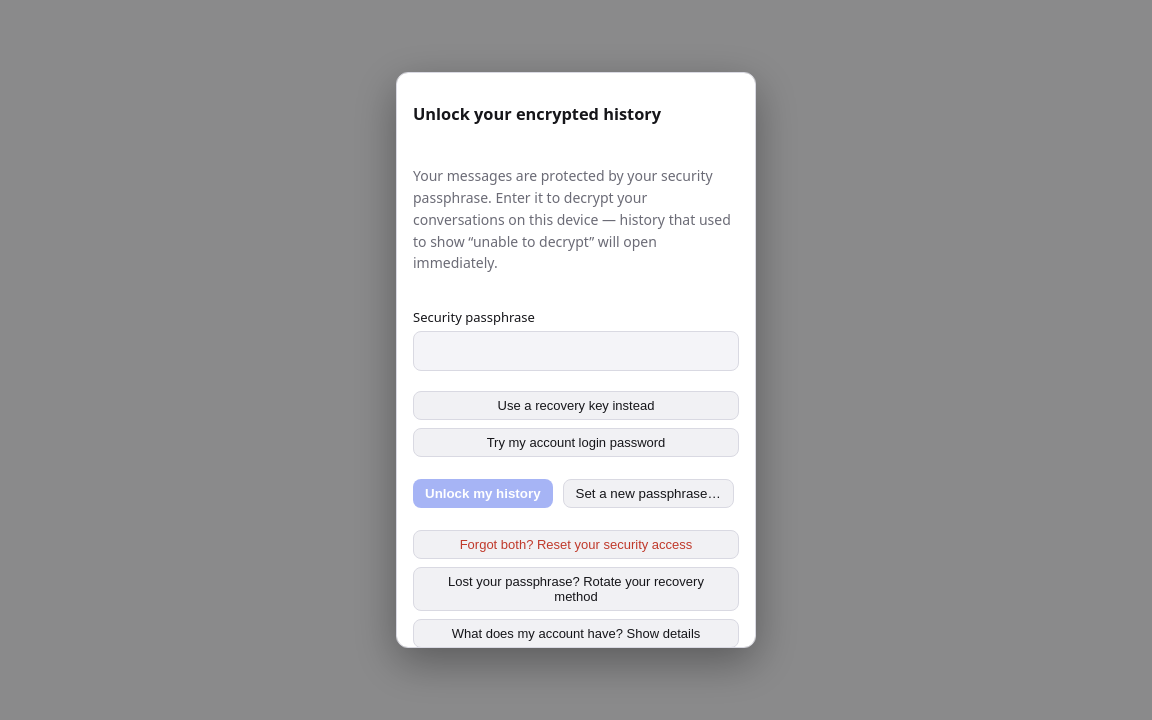
Test: W24 full rotation → forced ack › passphrase-proof route sends {passphrase}, not {recoveryKey}
Click the button with test id "rotate-entry": [576, 589] box [413,567,739,611]
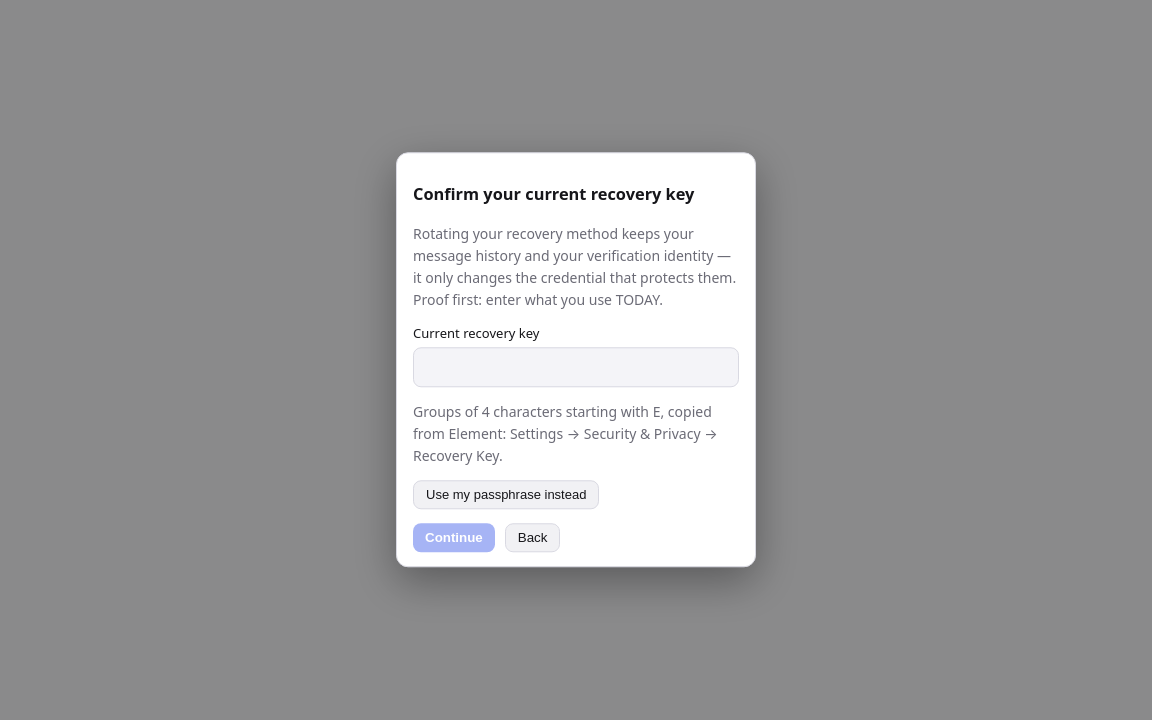
Check: the element with test id "rotate-prove" is shown, box [413,167,739,553]
Click the button with test id "rotate-proof-toggle": [506, 495] box [413,481,599,510]
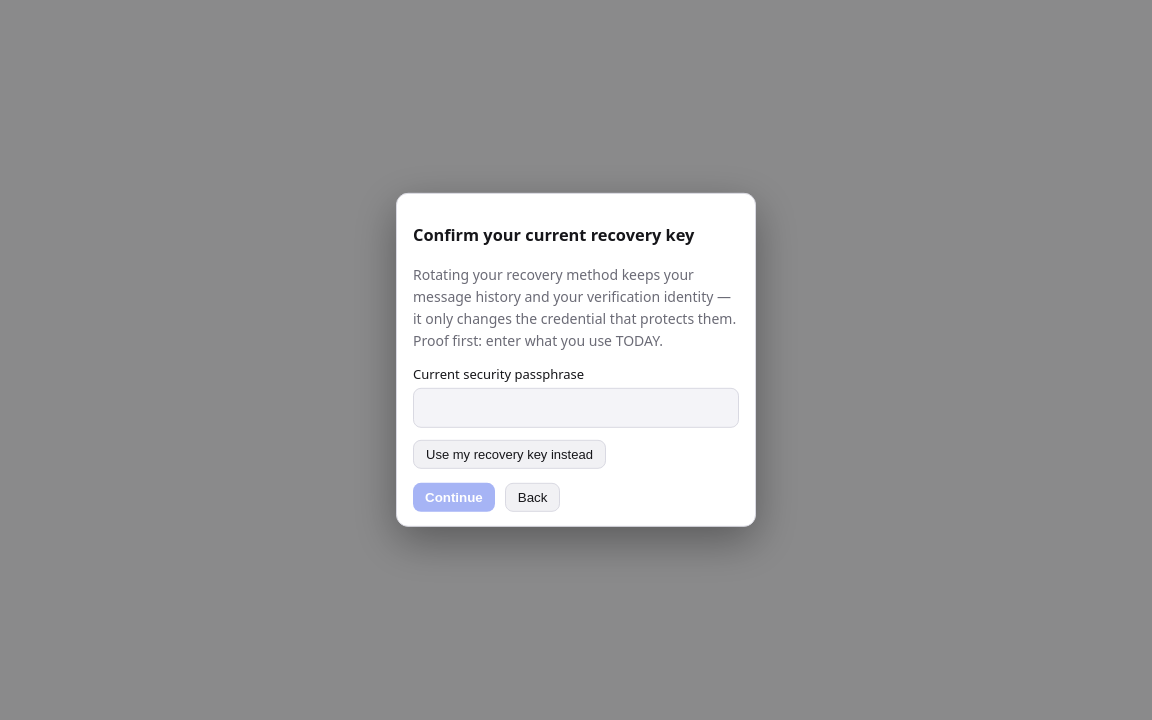
In the password field with test id "rotate-proof": [576, 408] box [413,388,739,428], type "old phrase here"
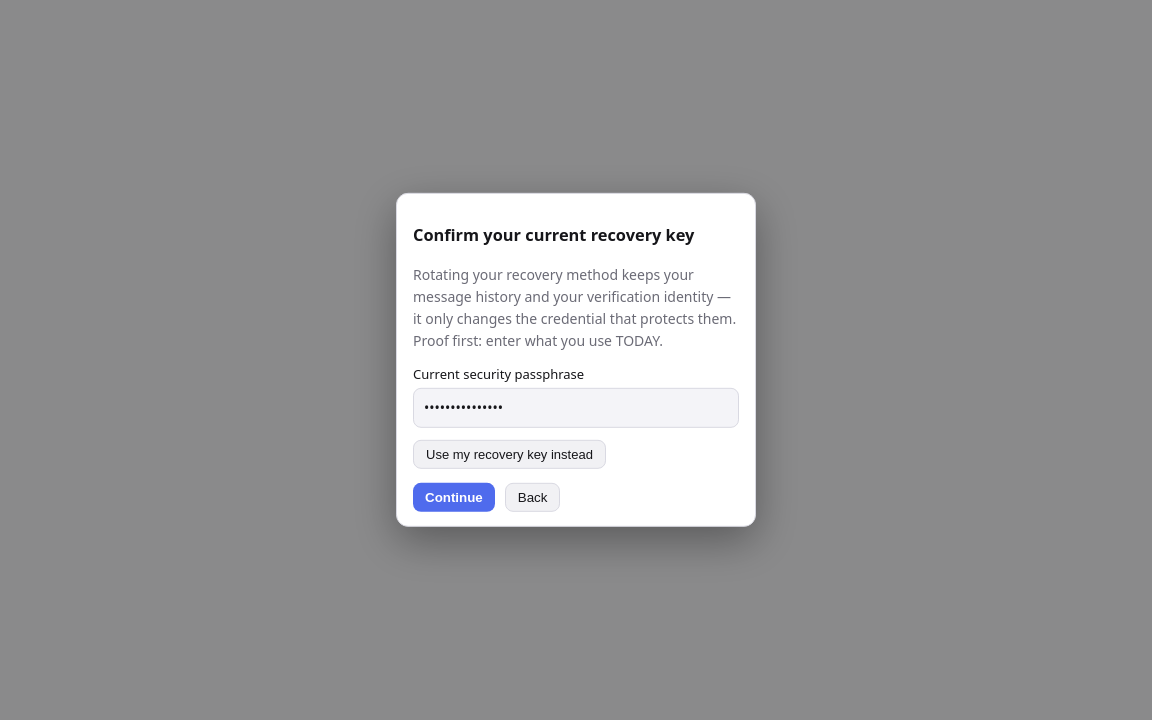
Click the button with test id "rotate-prove-next": [454, 498] box [413,483,495,512]
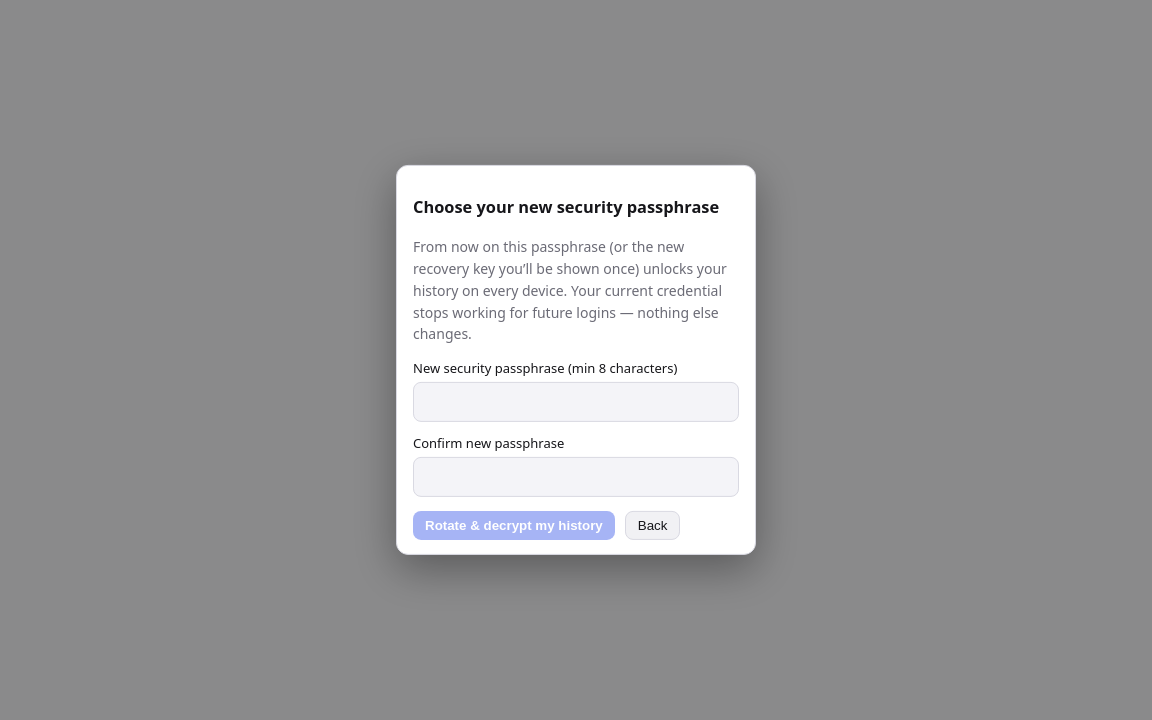
Check: the element with test id "rotate-passphrase" is shown, box [413,180,739,540]
In the password field with test id "rotate-pass1": [576, 402] box [413,382,739,422], type "new passphrase x"
In the password field with test id "rotate-pass2": [576, 477] box [413,457,739,497], type "new passphrase x"
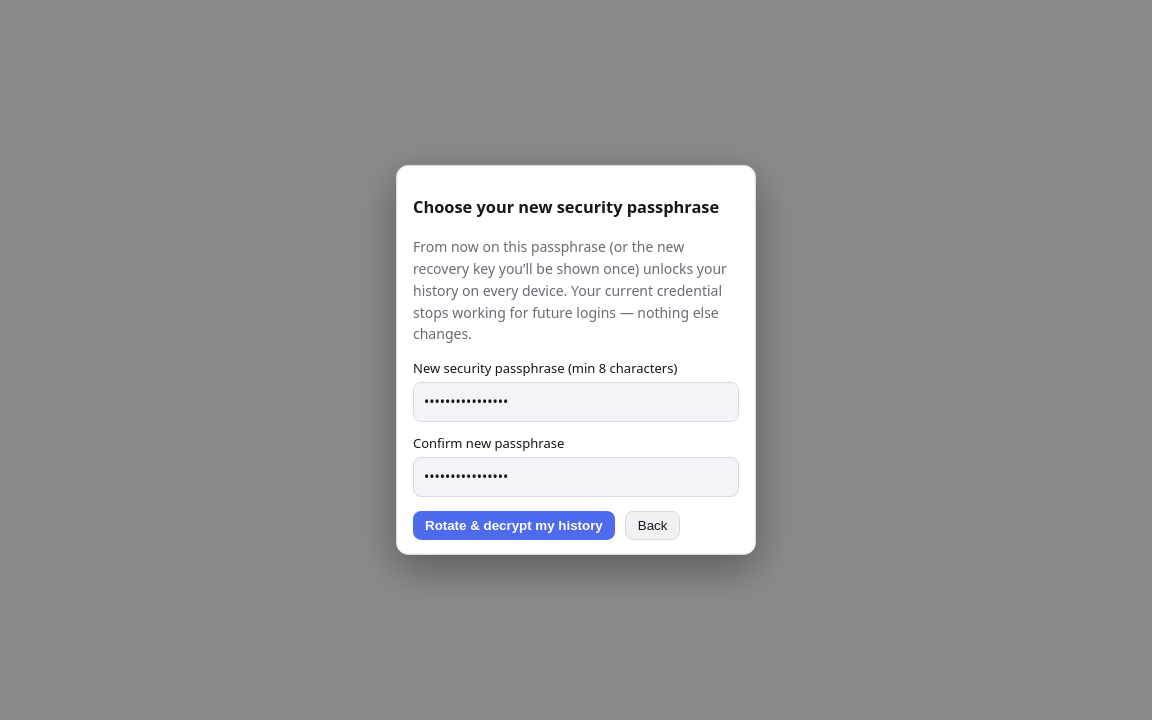
Click the button with test id "rotate-go": [514, 526] box [413,511,615,540]
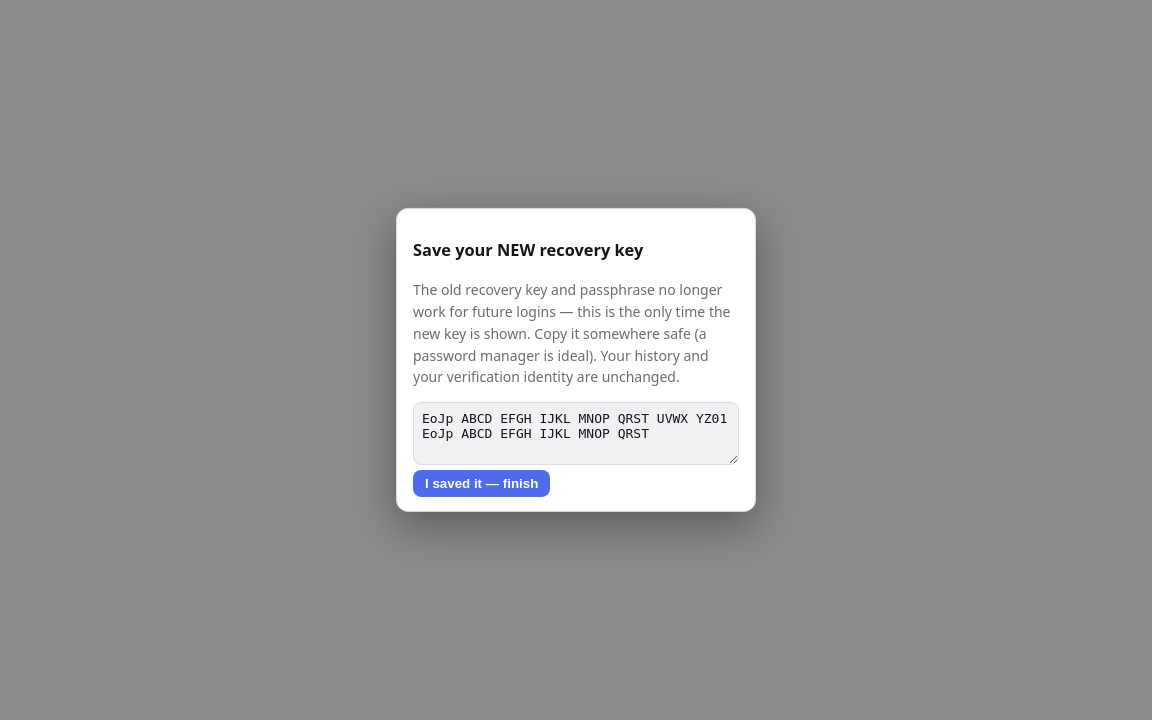
Check: the element with test id "rotate-showkey" is shown, box [413,223,739,497]
